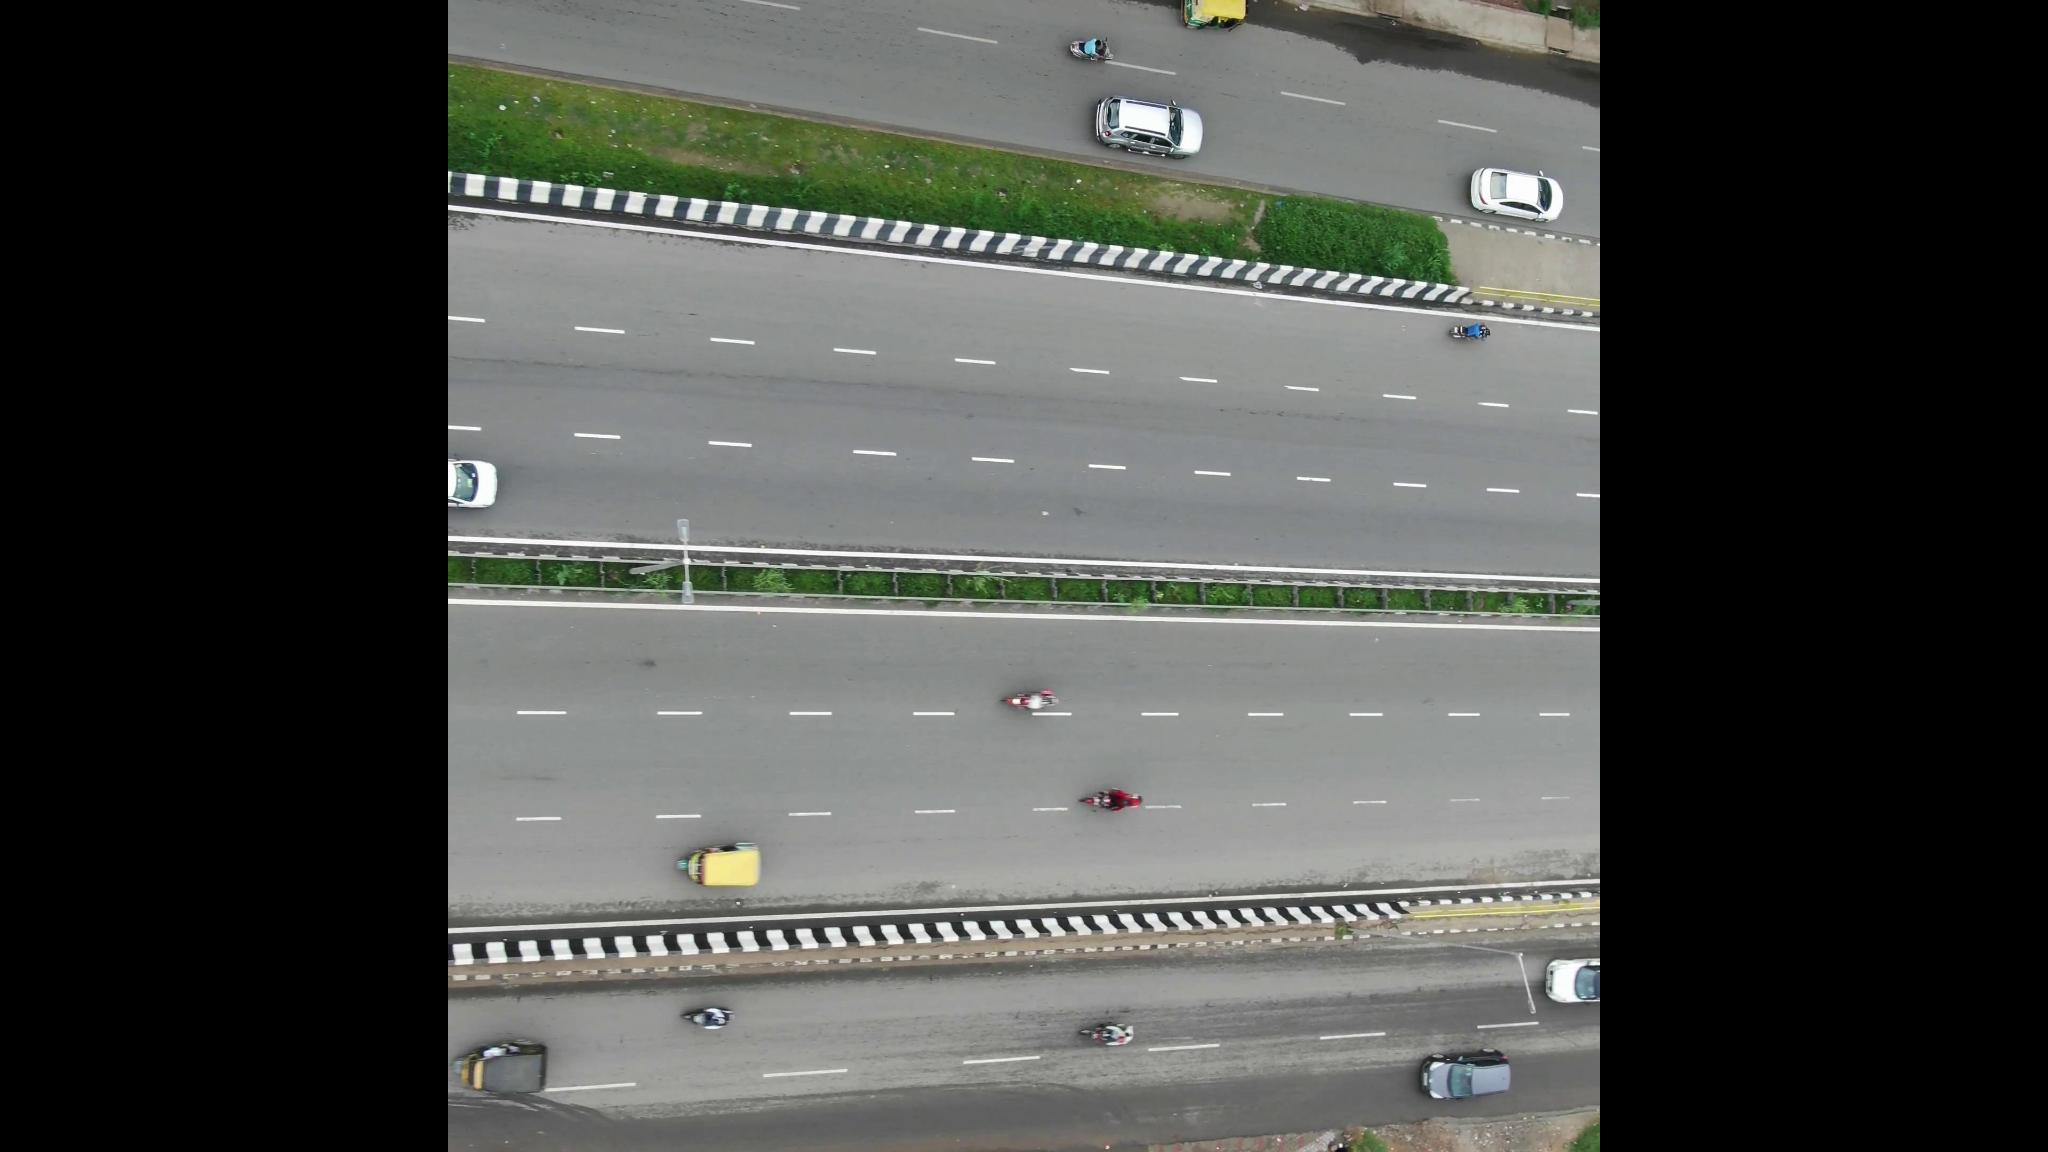Ravelling: (466, 345, 734, 409)
Waterlogging: (1338, 20, 1476, 60)
